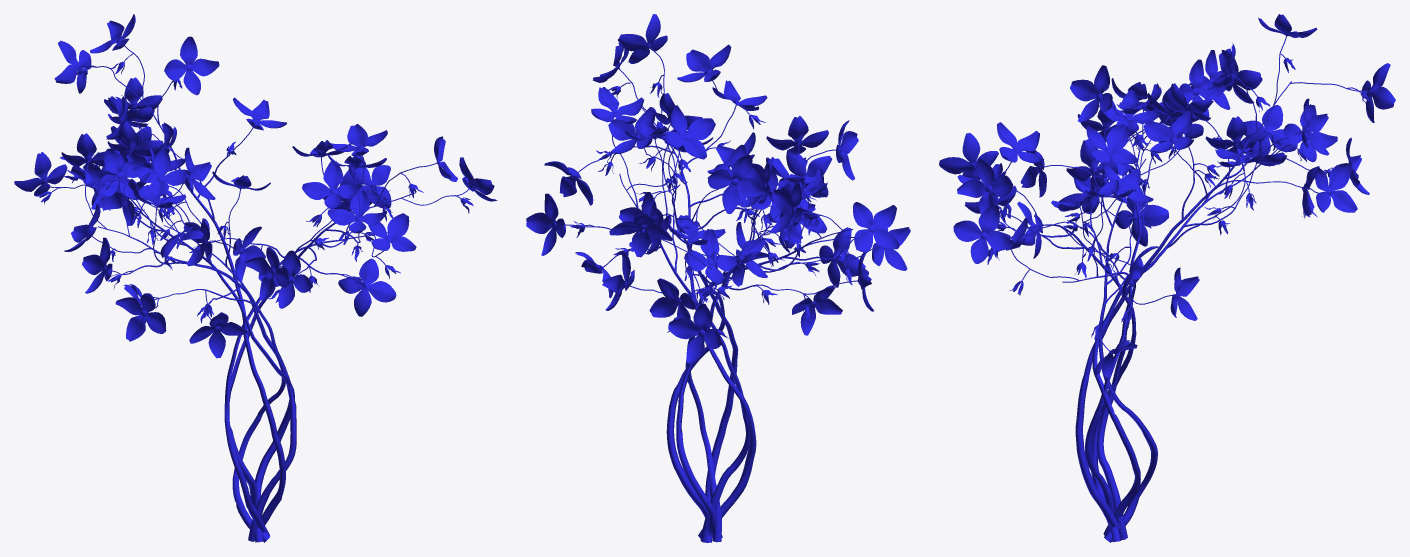
Rendered from fleur_t.fbx.
3 renders of one model, left to right at view 1: azimuth 30°, elevation 25°; view 2: azimuth 150°, elevation 25°; view 3: azimuth 270°, elevation 25°, orthographic. The views are drawn at different scales.
Parts seen in each view (by area): view 1: fleurs; view 2: fleurs; view 3: fleurs.
Part boxes in pixels (x1,y1,x2,y2): fleurs: (14, 14, 497, 542); fleurs: (526, 14, 910, 542); fleurs: (939, 14, 1395, 542).
Size of the model in its own units: 70.5 by 90.42 by 74.39.
